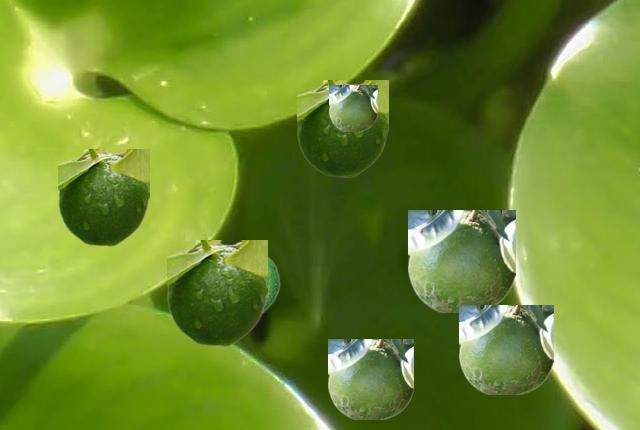dalandan: (408, 210, 514, 311), (167, 240, 266, 345), (58, 149, 148, 245), (297, 80, 387, 176), (459, 305, 552, 393), (328, 339, 412, 418), (234, 241, 279, 313), (329, 85, 376, 130)
